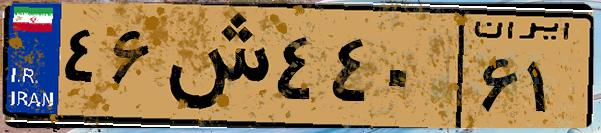0: (385, 28, 445, 110)
1: (525, 38, 570, 115)
4: (270, 28, 330, 110), (330, 28, 385, 110), (57, 26, 110, 100)
6: (475, 38, 525, 113), (110, 28, 158, 98)
ش: (158, 12, 270, 120)
